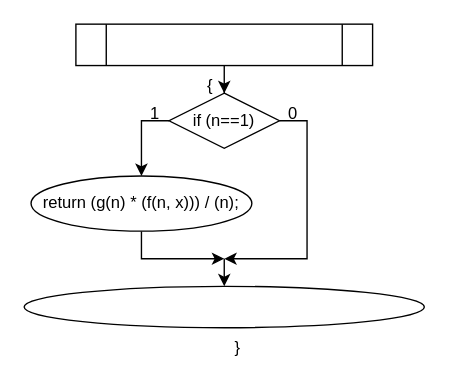
Image size: 449x382. Some labels were removed from this diagram. Each missing label, with the centre of its shape:
"double get_sum(int n, double x)" goes at (x=224, y=44).
"return (g(n) * (f(n, x))) / (n)+get_sum(n - 1, x);" goes at (x=223, y=306).
